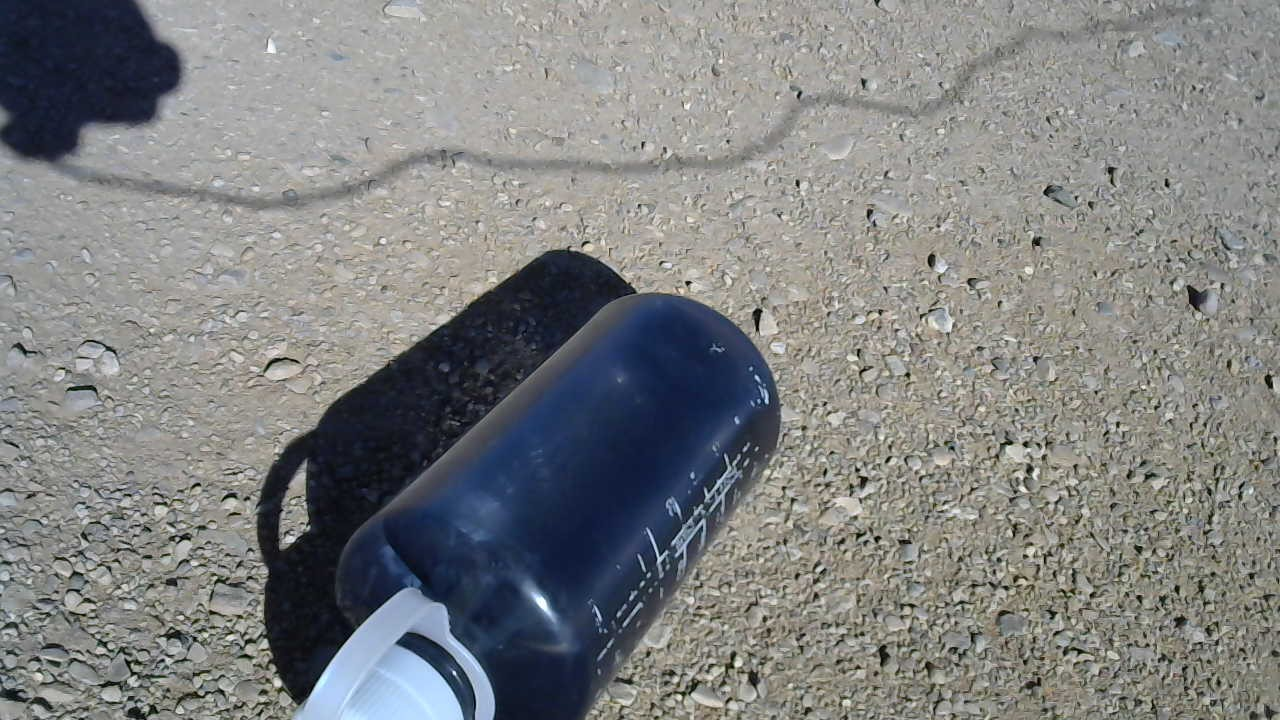bottle: (272, 286, 785, 720)
